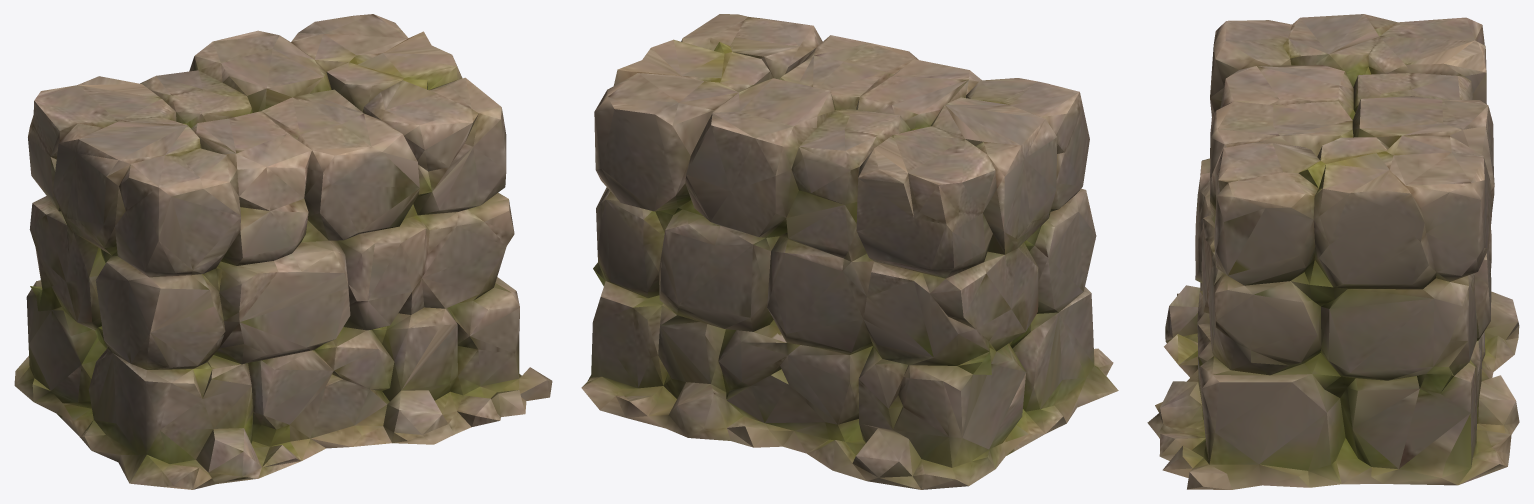
Rendered from muro_agrietado_1500.glb.
The picture shows the model from 3 angles, left to right: view 1: azimuth 30°, elevation 25°; view 2: azimuth 150°, elevation 25°; view 3: azimuth 270°, elevation 25°; orthographic projection. The views are drawn at different scales.
Visible parts, largest first — view 1: muro_agrietado_malla; view 2: muro_agrietado_malla; view 3: muro_agrietado_malla.
Boxes of the visible parts, <box> form: muro_agrietado_malla: <box>14,14,552,489</box>; muro_agrietado_malla: <box>581,14,1118,489</box>; muro_agrietado_malla: <box>1147,14,1519,489</box>.
Size of the model in its own units: 0.4653 by 0.3146 by 0.3598.
Materials: 1 (1 with a texture image).
